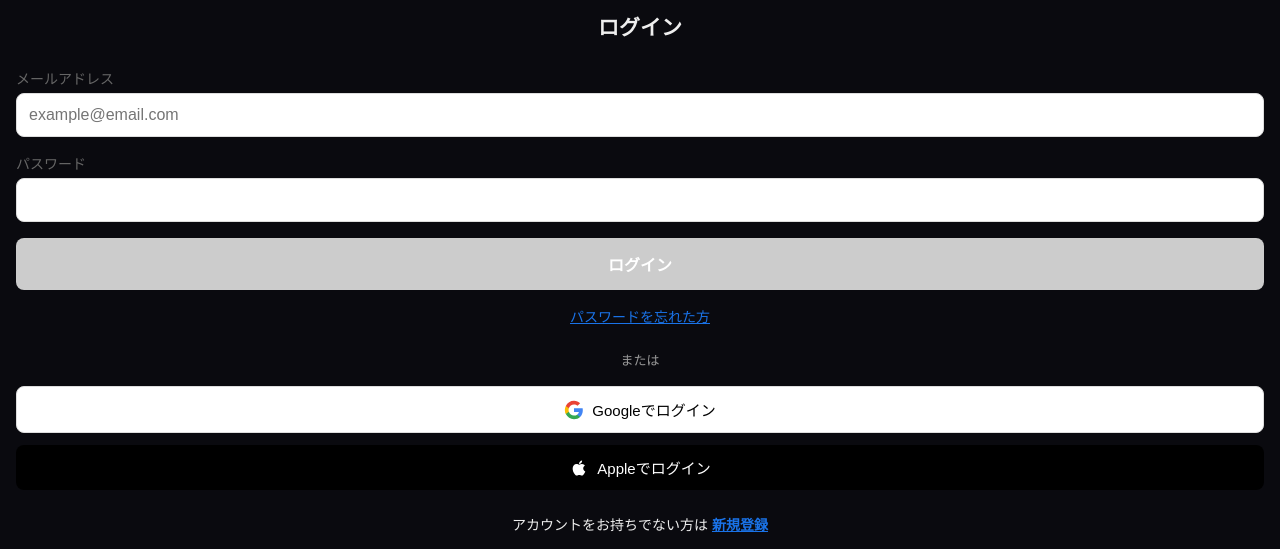
Test: LoginPage › 有効なメールアドレスとパスワードでログインボタンが有効
Type "test@example.com" into the field labelled "メールアドレス" at [640, 114], box [16,92,1264,136]
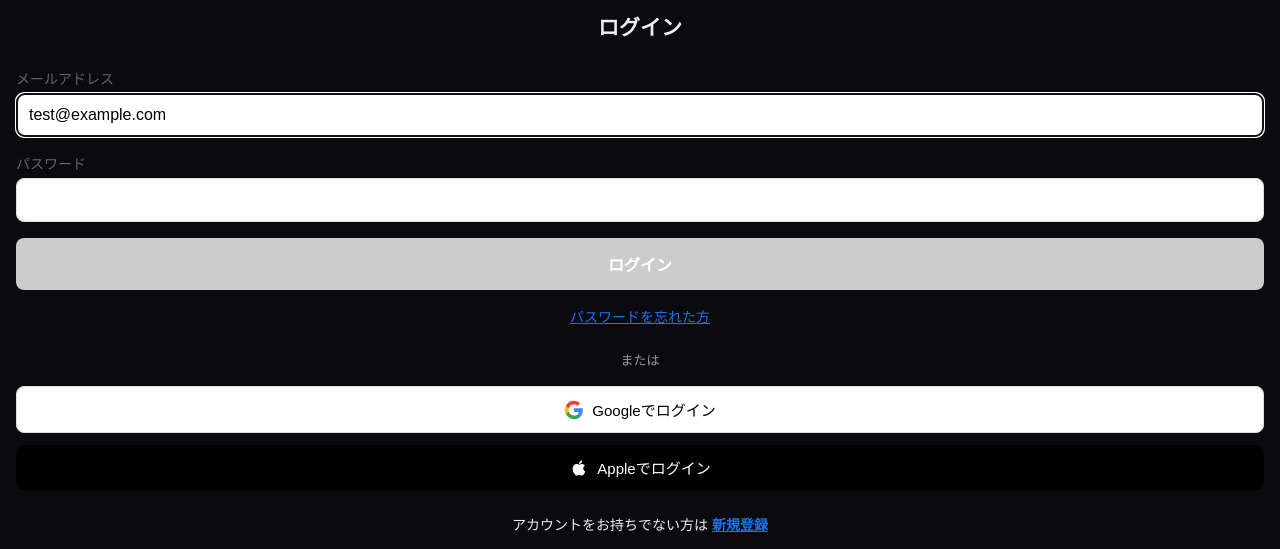
Type "password123" into the password field labelled "パスワード" at [640, 200], box [16,178,1264,222]
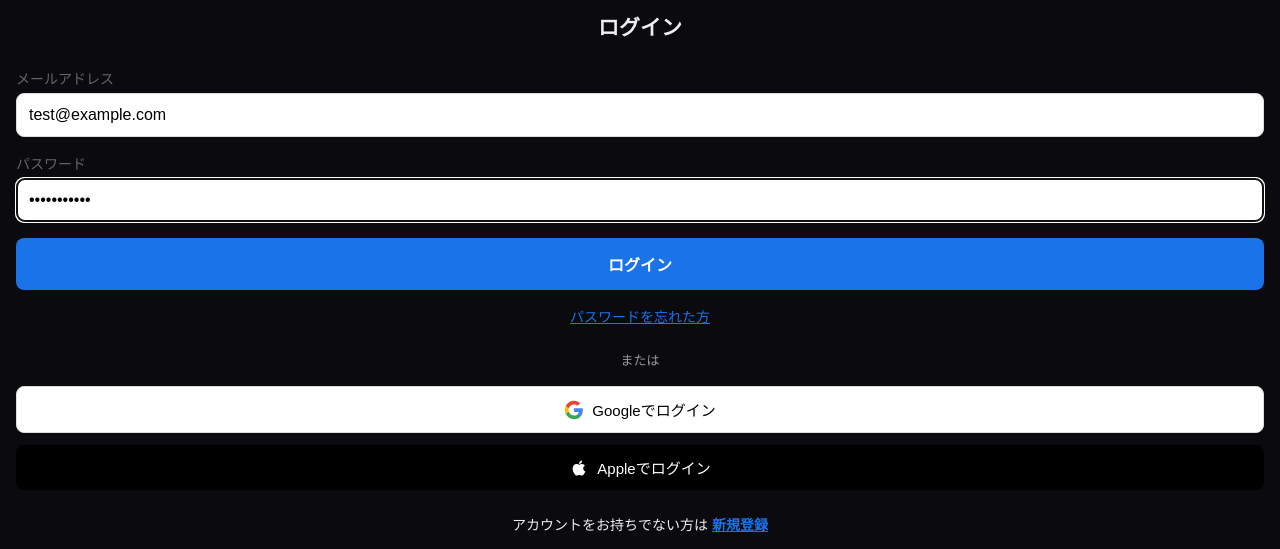
Now the button "ログイン" is enabled, box [16,238,1264,290]
